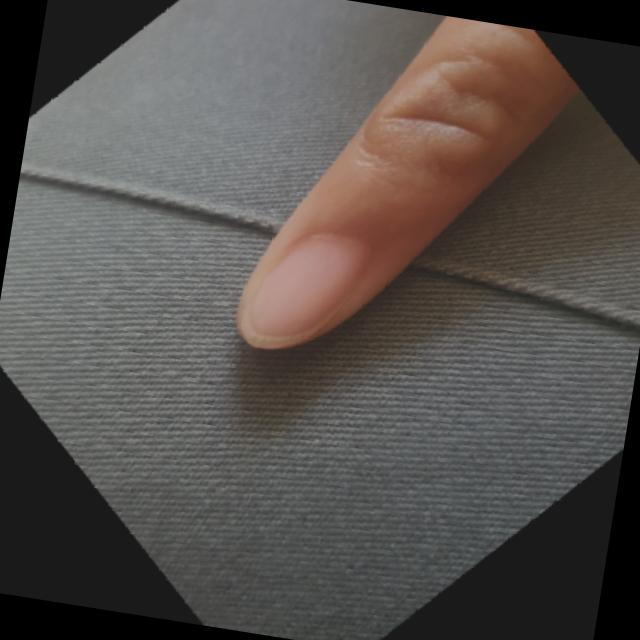Nail: (251, 234, 364, 336)
